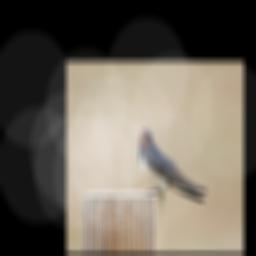Swallow: (137, 126, 229, 213)
